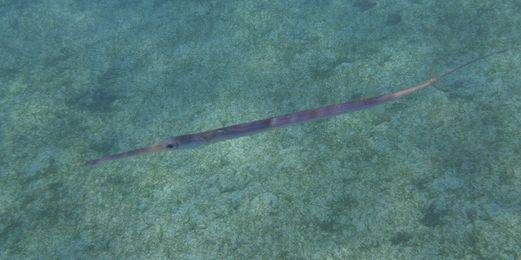Fistularia commersonii: (28, 55, 507, 179)
